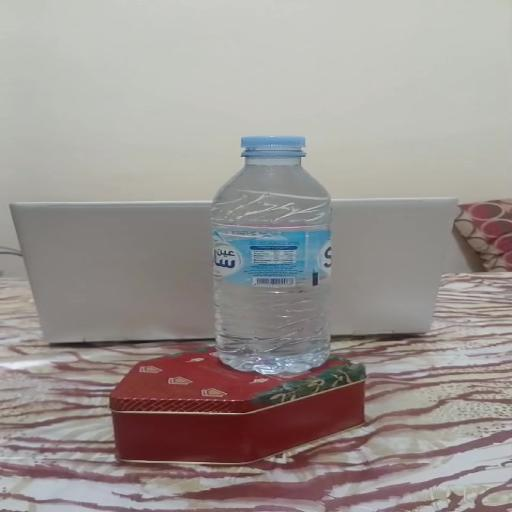bouteille non conformite: (170, 122, 344, 370), (236, 133, 324, 170)
